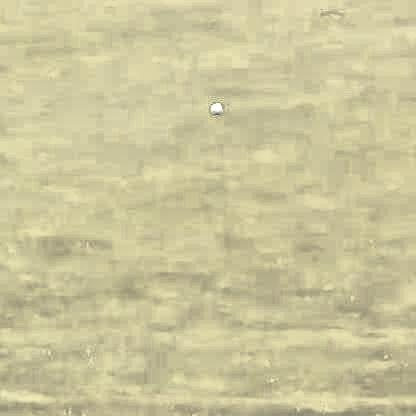golfball: (207, 100, 221, 114)
